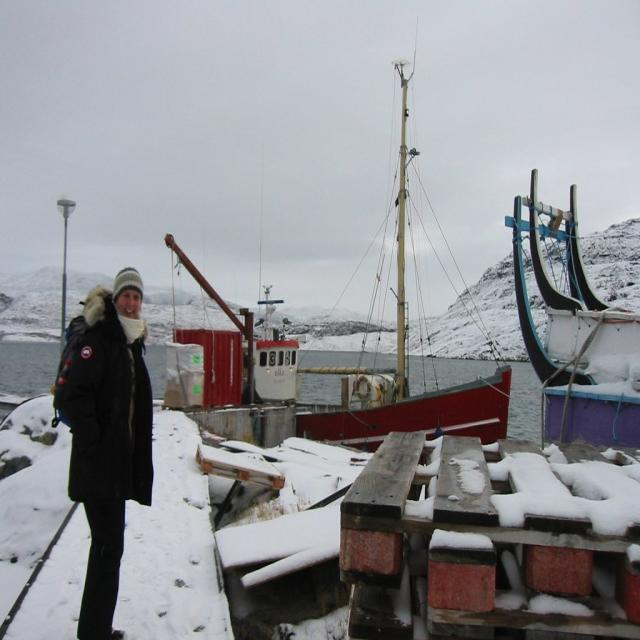Boat: (176, 64, 546, 528), (504, 169, 640, 442)
